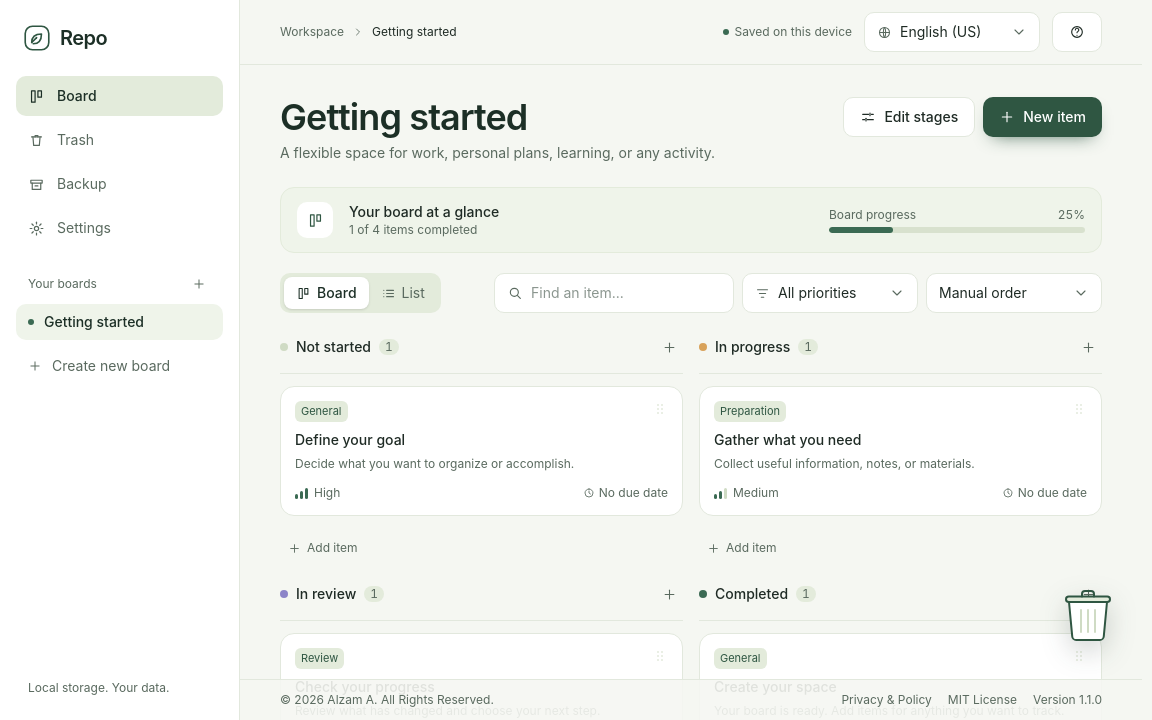
Scenario: backup dialog › refuses to start an encrypted backup with an empty passphrase
Expected: the heading "Getting started" is shown, [280,95,527,139]
Click the button "Backup". click: (120, 184)
box: [16,164,223,204]
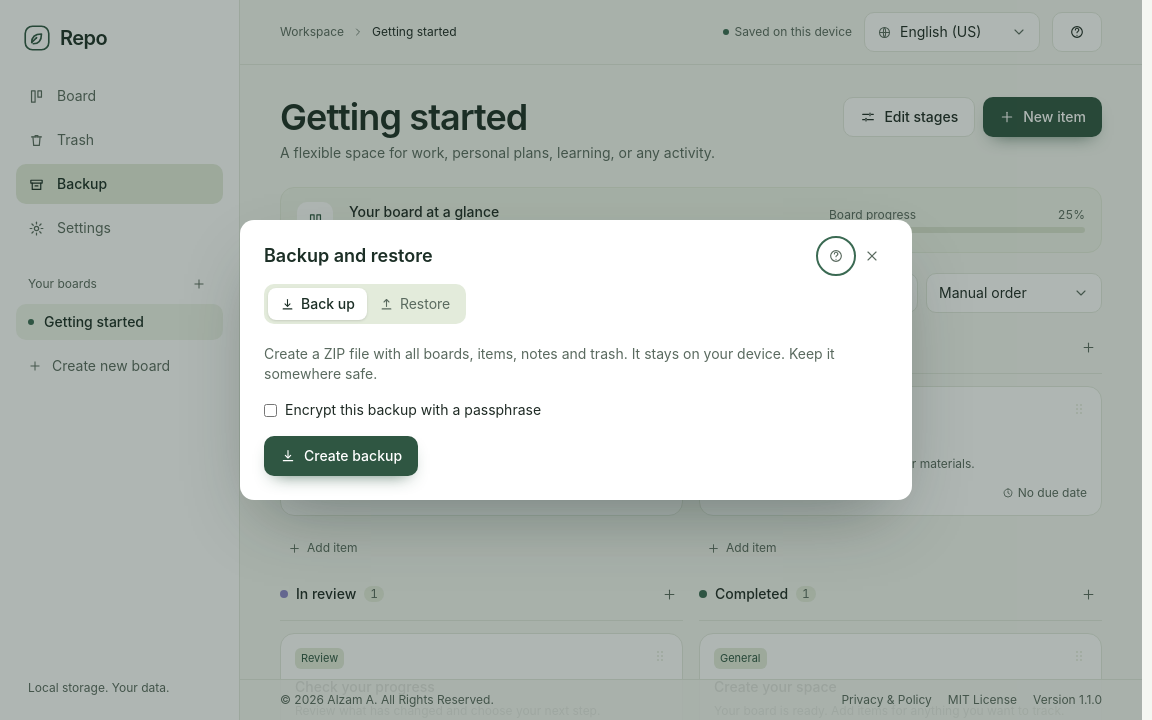
Click the checkbox labelled "Encrypt this backup with a passphrase". click: (270, 410)
box: [264,404,277,417]
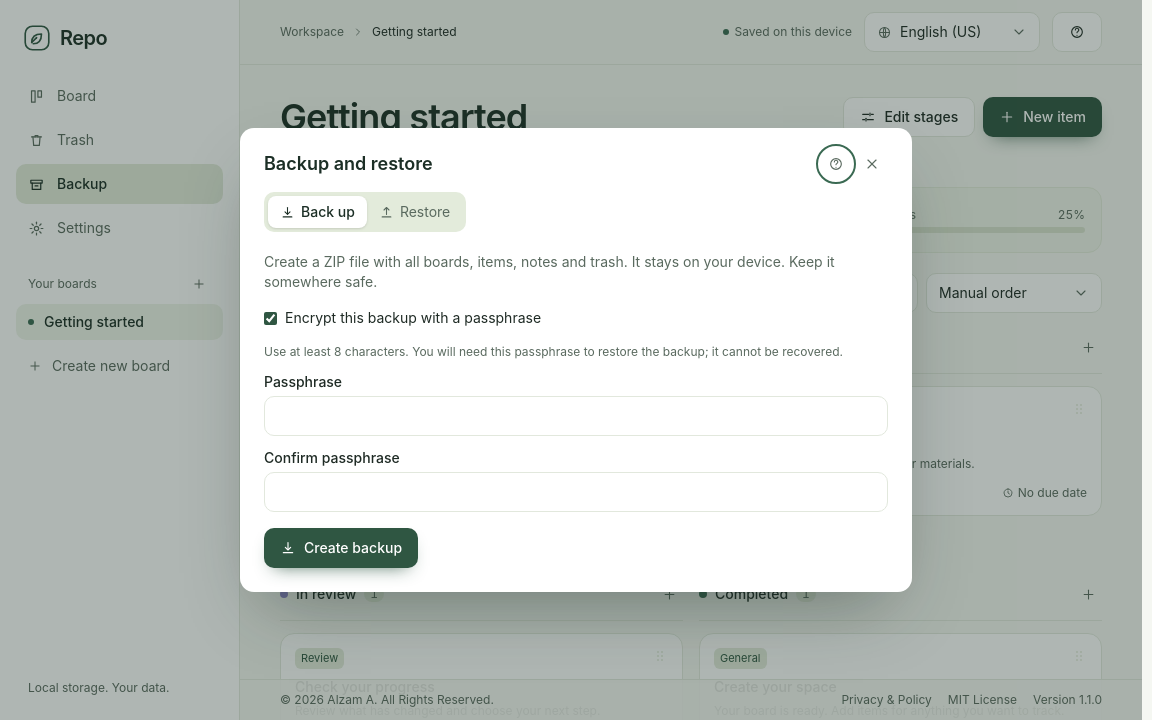
Click the button "Create backup". click: (341, 548)
box: [264,528,418,568]
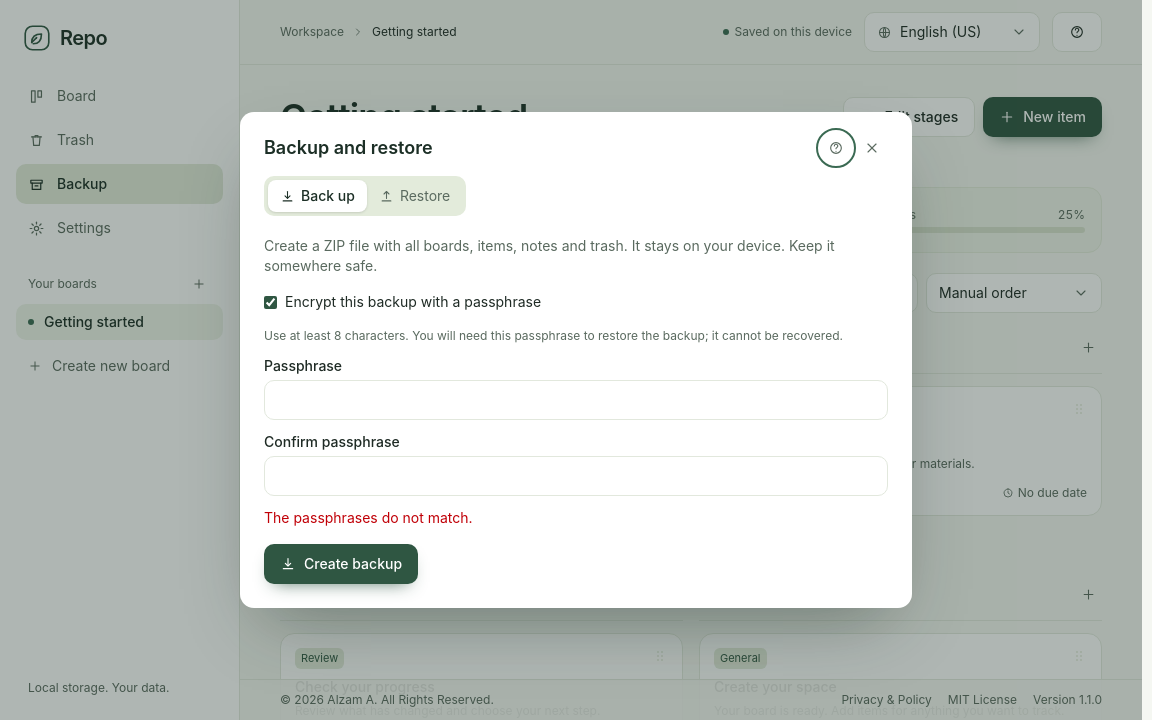
Expected: the message reads "The passphrases do not match.", [264,509,473,526]
